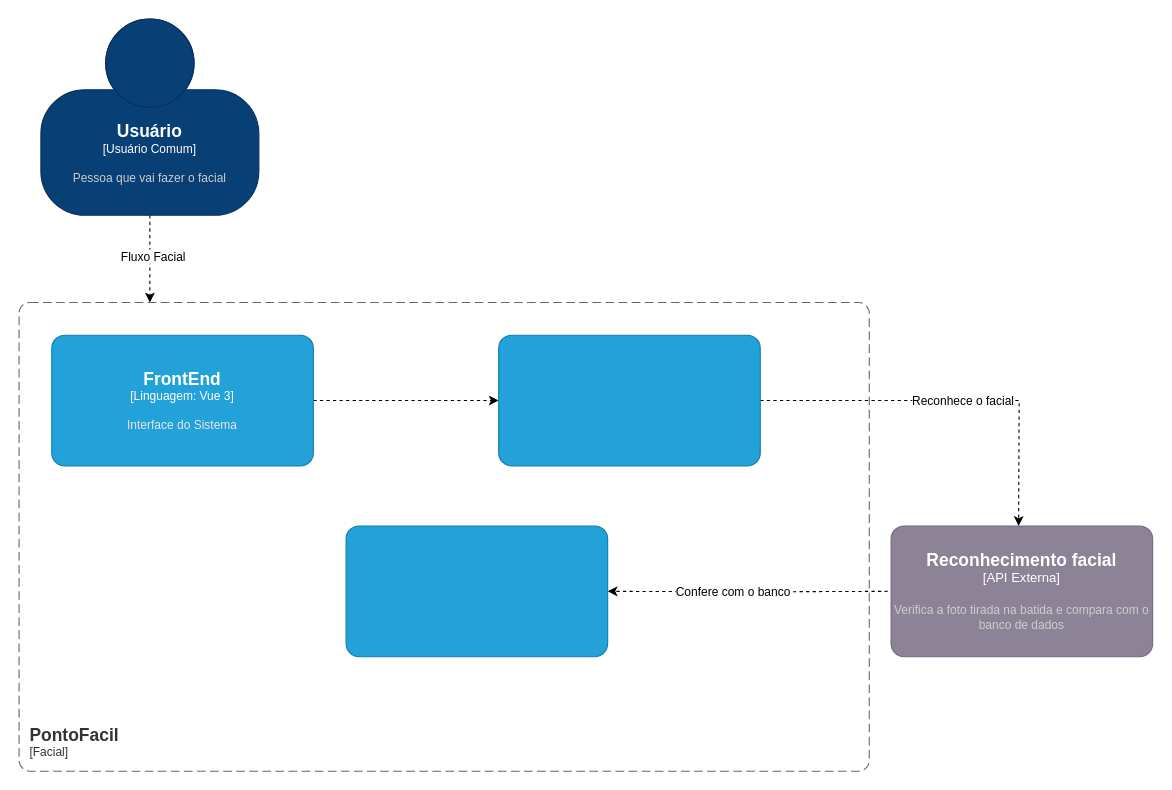
Image size: 1172x790. Some labels were removed from this diagram. The shapes that lost their labels are listed below. From the top down, each one's box as (x1, y1, x2, y2) in pixels, then its label:
(498, 334, 760, 466): API [Linguagem: Node.js] API Interna
(345, 525, 608, 657): Banco de Dados [Linguagem: MySQL] Armazenamento de Informações
